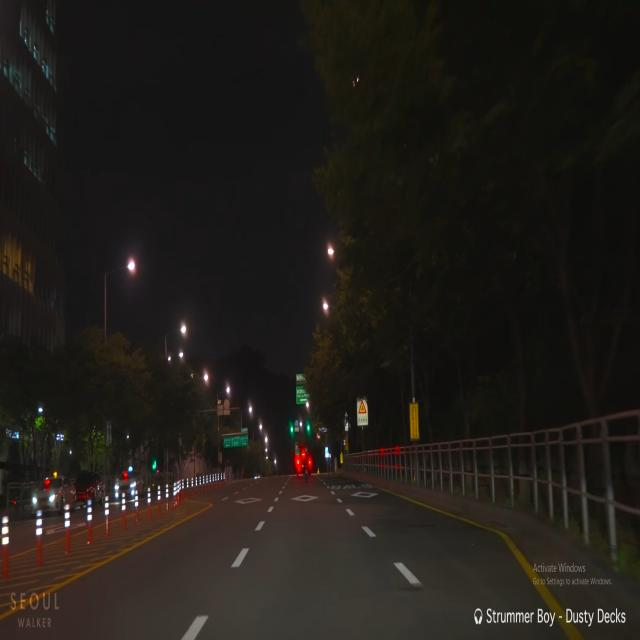headlights: (29, 489, 58, 510), (110, 478, 138, 492)
